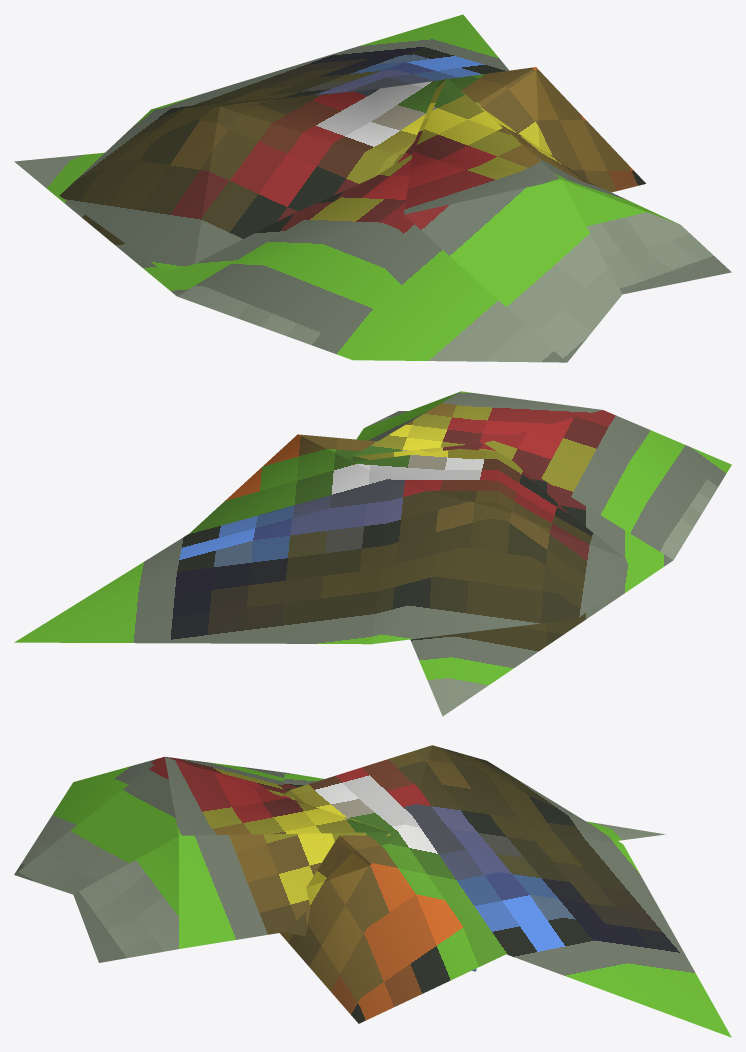
File: BGN_RUBISH 3.fbx
3 views of the same model, one above another, from view 1: azimuth 30°, elevation 25°; view 2: azimuth 150°, elevation 25°; view 3: azimuth 270°, elevation 25° (orthographic). The views are drawn at different scales.
Parts seen in each view (by area): view 1: BGN_RUBISH_3; view 2: BGN_RUBISH_3; view 3: BGN_RUBISH_3.
Part boxes in pixels (box(x1,y1,x2,y2)): BGN_RUBISH_3: box(14, 14, 731, 362); BGN_RUBISH_3: box(14, 391, 731, 716); BGN_RUBISH_3: box(14, 745, 731, 1037).
Size of the model in its own units: 112 by 27.28 by 149.
1 material, 1 textured.
